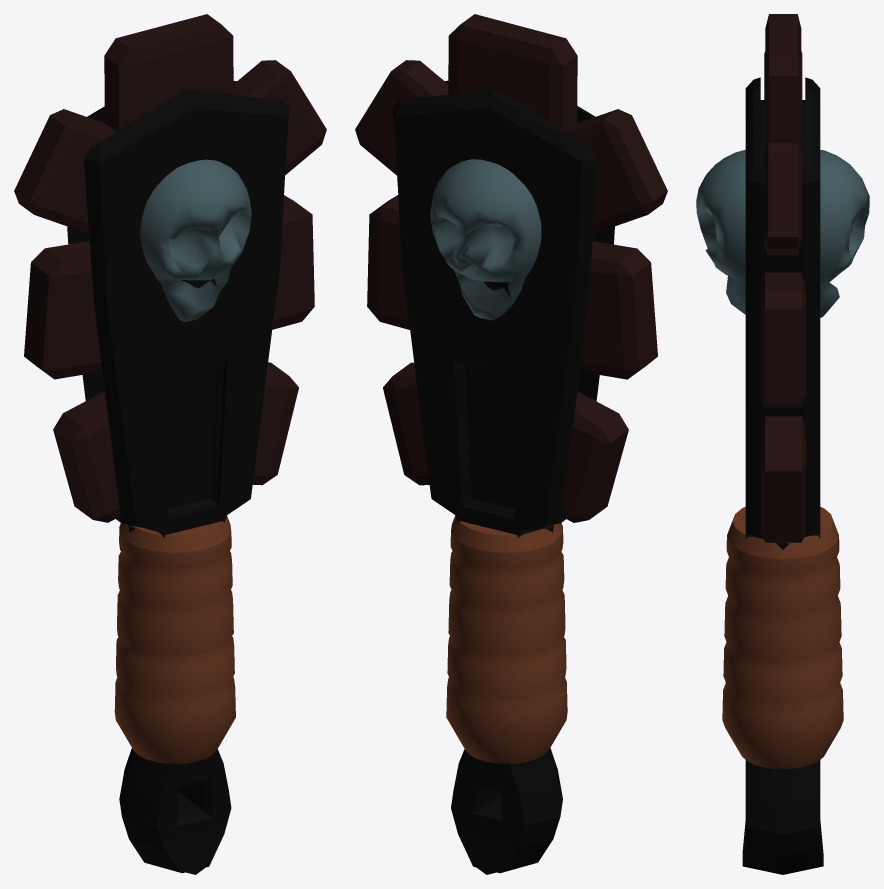
3 renders of one model, left to right at view 1: azimuth 30°, elevation 25°; view 2: azimuth 150°, elevation 25°; view 3: azimuth 270°, elevation 25°, orthographic.
Visible parts, largest first — view 1: pPlatonic4 polySurface3, group2, pCylinder1, polySurface1 pPlatonic4; view 2: pPlatonic4 polySurface3, group2, pCylinder1, pPlatonic4 polySurface2; view 3: pCylinder1, pPlatonic4 polySurface3, group2, polySurface1 pPlatonic4, pPlatonic4 polySurface2.
Boxes of the visible parts, x1=… form: pPlatonic4 polySurface3: x1=67, y1=81, x2=289, y2=874; group2: x1=14, y1=14, x2=326, y2=522; pCylinder1: x1=114, y1=516, x2=235, y2=763; polySurface1 pPlatonic4: x1=140, y1=159, x2=251, y2=321; pPlatonic4 polySurface3: x1=393, y1=80, x2=614, y2=874; group2: x1=355, y1=14, x2=667, y2=522; pCylinder1: x1=446, y1=516, x2=567, y2=763; pPlatonic4 polySurface2: x1=430, y1=159, x2=541, y2=320; pCylinder1: x1=722, y1=507, x2=843, y2=769; pPlatonic4 polySurface3: x1=742, y1=77, x2=823, y2=874; group2: x1=760, y1=14, x2=806, y2=542; polySurface1 pPlatonic4: x1=696, y1=149, x2=745, y2=314; pPlatonic4 polySurface2: x1=820, y1=150, x2=869, y2=317.
Bounding box in the file's own units: 0.3589 × 0.9654 × 0.1817.
